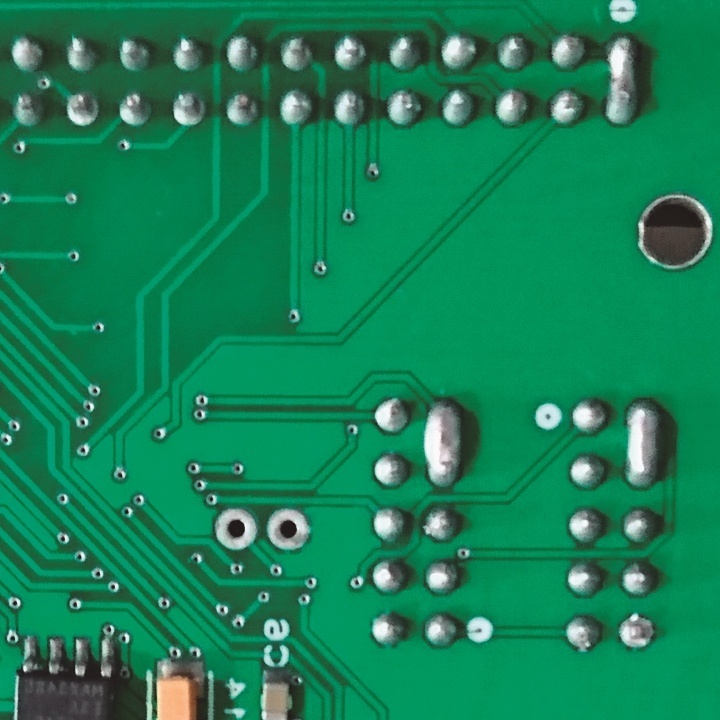F: (267, 504, 315, 555), (215, 504, 259, 555), (617, 612, 658, 656), (62, 89, 102, 132), (169, 92, 210, 129)
P: (419, 395, 477, 493), (601, 31, 644, 129), (621, 398, 664, 492)
